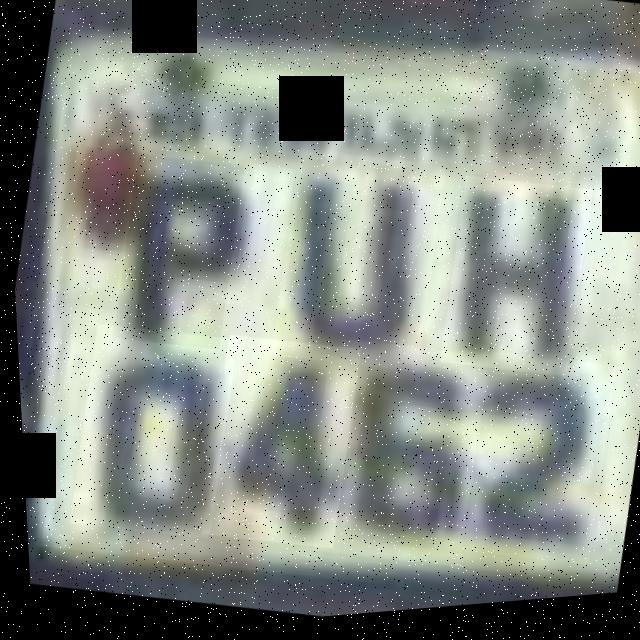0: (56, 316, 241, 551)
2: (420, 346, 620, 585)
4: (188, 330, 365, 563)
6: (298, 335, 494, 583)
H: (428, 176, 598, 394)
P: (102, 150, 250, 360)
U: (259, 144, 452, 388)
